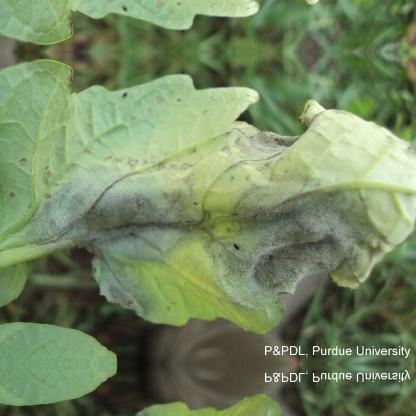Late-Blight: (1, 53, 415, 333)
